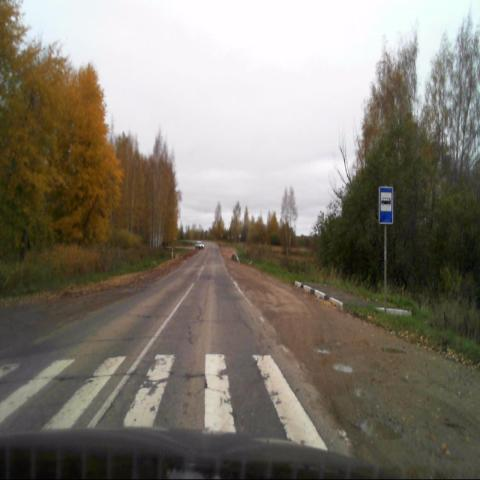5_16: (379, 187, 393, 223)
